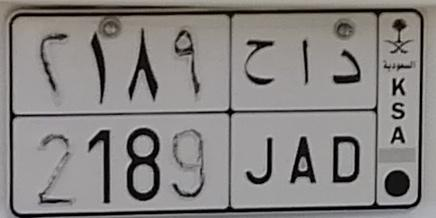1: (85, 31, 113, 205)
2: (36, 32, 77, 205)
8: (126, 26, 162, 202)
9: (170, 28, 207, 200)
A: (288, 38, 321, 186)
D: (331, 48, 363, 185)
J: (242, 38, 277, 186)
